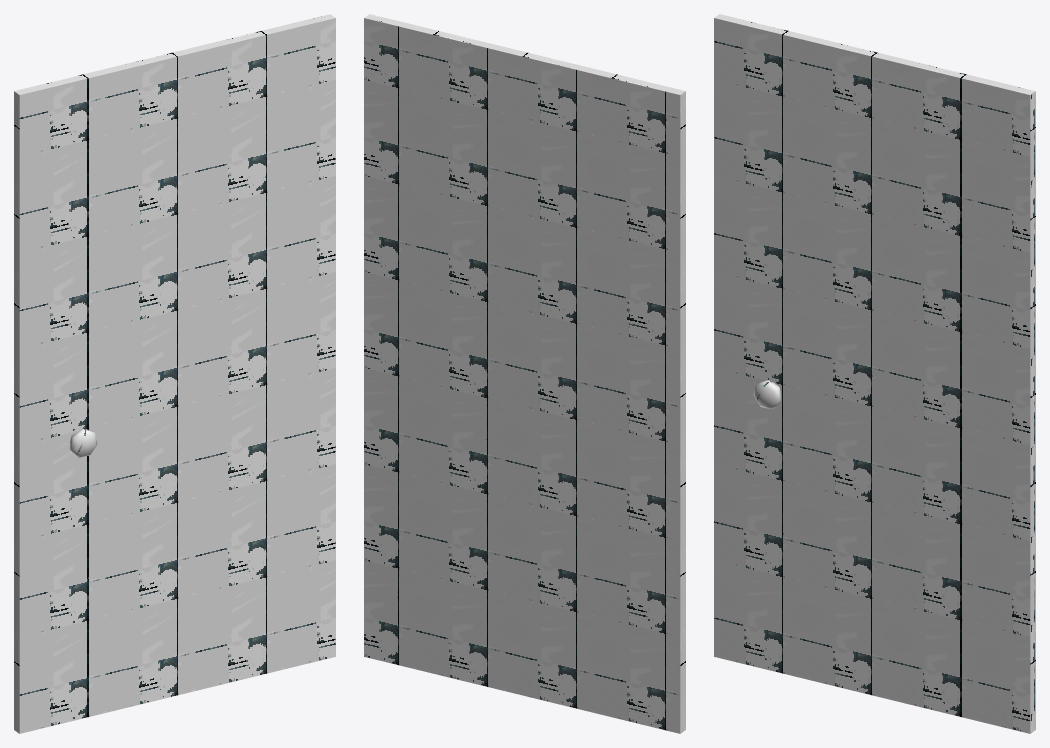
Rendered from WarddrobeDoorLeft.FBX.
The picture shows the model from 3 angles, left to right: view 1: azimuth 30°, elevation 25°; view 2: azimuth 150°, elevation 25°; view 3: azimuth 330°, elevation 25°; orthographic projection.
Visible parts, largest first — view 1: WardDrobeDoorLeft; view 2: WardDrobeDoorLeft; view 3: WardDrobeDoorLeft.
Part boxes in pixels (x1,y1,x2,y2): WardDrobeDoorLeft: [14, 14, 335, 733]; WardDrobeDoorLeft: [364, 14, 685, 733]; WardDrobeDoorLeft: [714, 14, 1035, 733].
Size of the model in its own units: 1.89 by 0.1514 by 3.64.
Materials: 1 (1 with a texture image).
